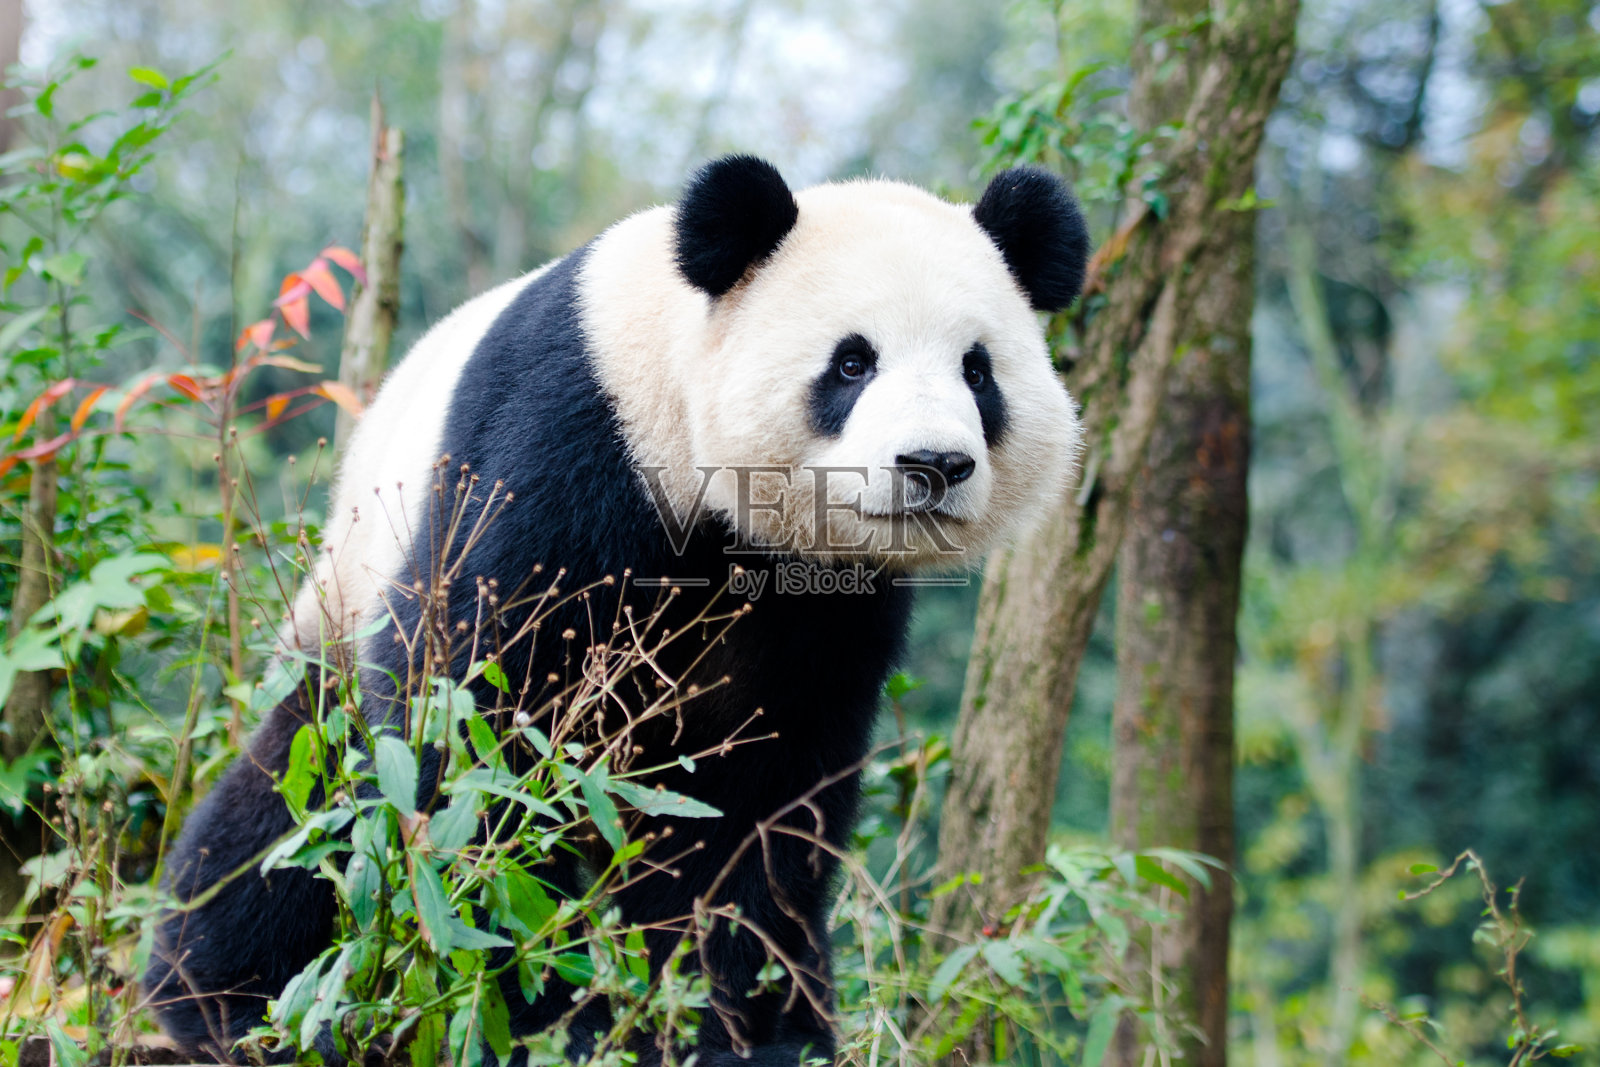panda: (235, 108, 1082, 1030)
